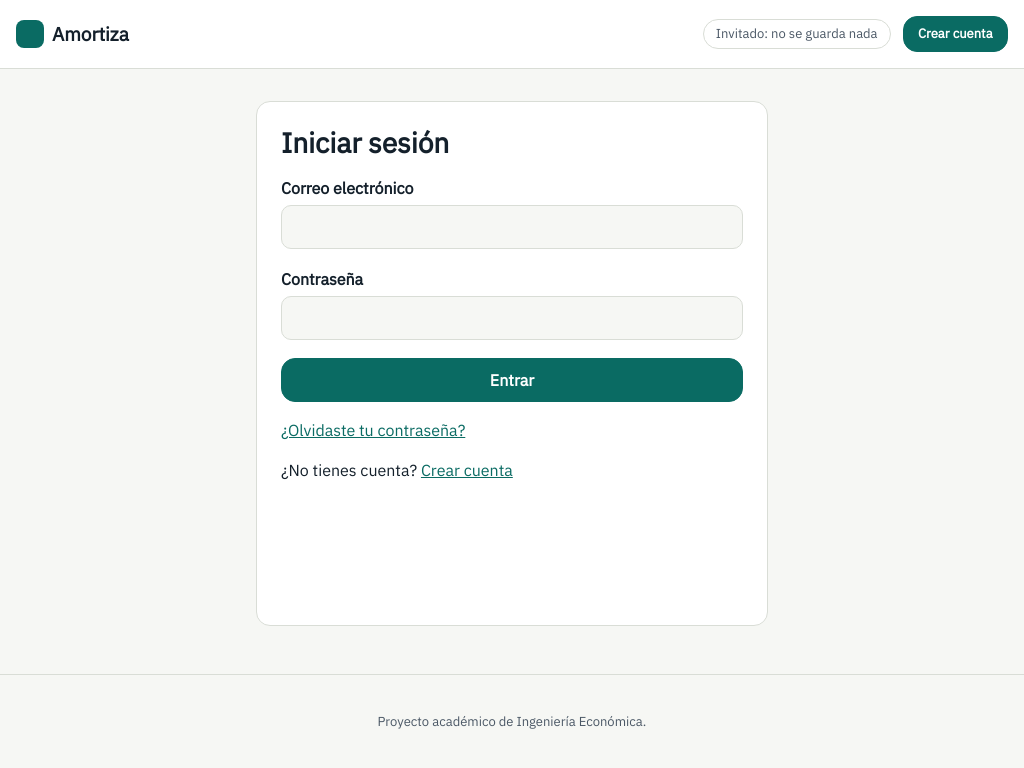
Test case: HU-02: iniciar y cerrar sesión › criterio HU-02: con contraseña incorrecta muestra "Correo o contraseña incorrectos" y sigue como invitado
Type "ana@correo.co" into the field labelled "Correo electrónico". click: (512,227)
box: 281,205 -> 743,249
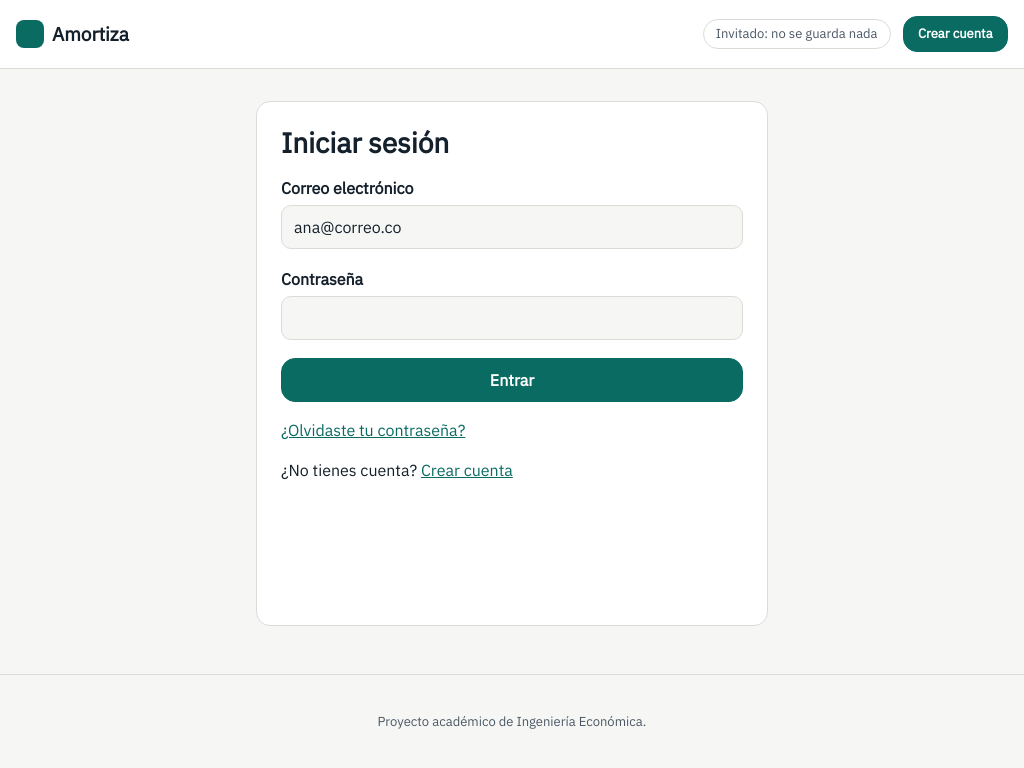
Type "otra cosa" into the password field labelled "Contraseña". click: (512,318)
box: 281,296 -> 743,340
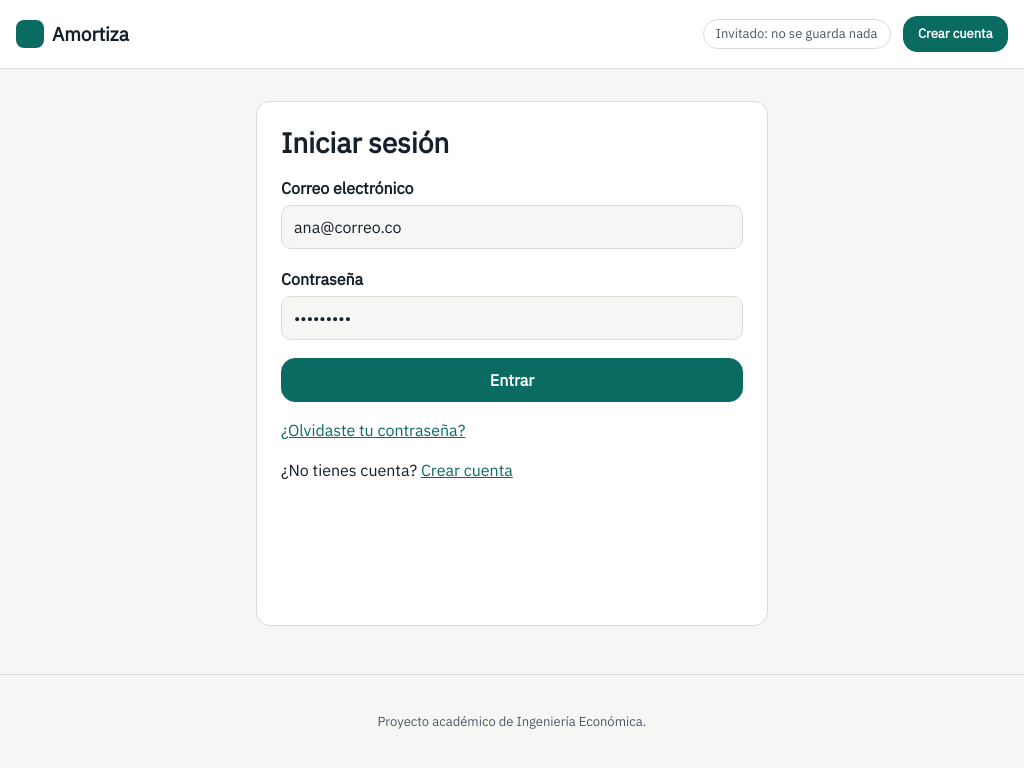
Click the button "Entrar". click: (512,380)
box: 281,358 -> 743,402
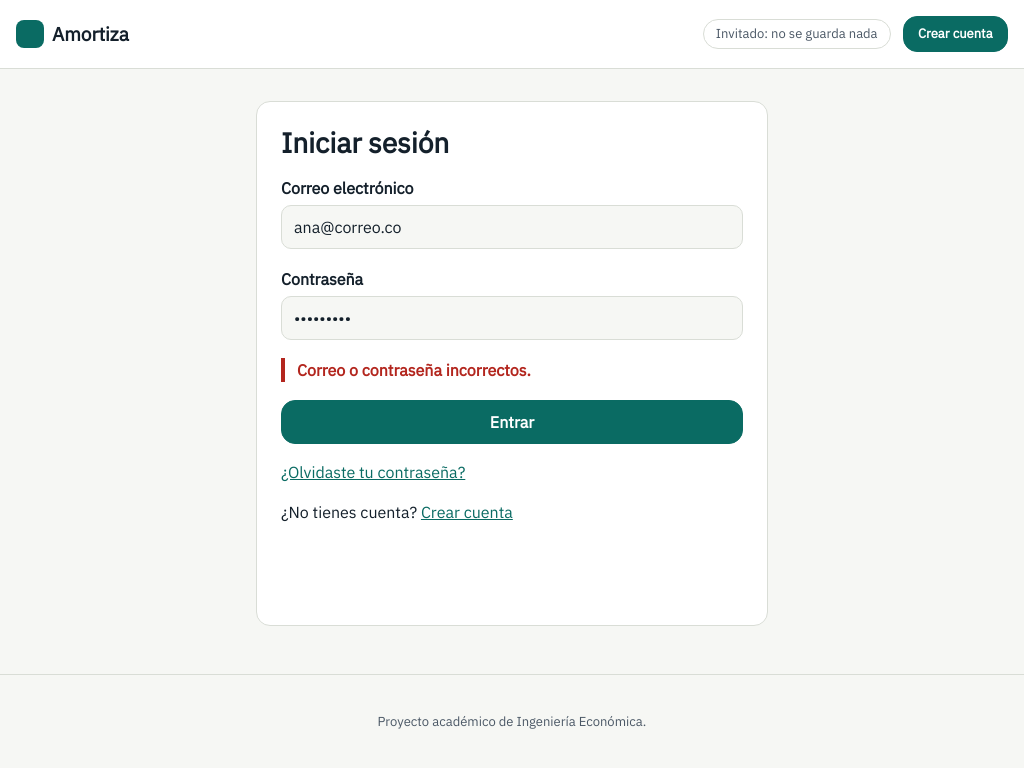
Expected: the text "Invitado: no se guarda nada" is shown, 703,19 -> 891,49
Now the message "Correo o contraseña incorrectos." is shown, box 281,358 -> 743,382
